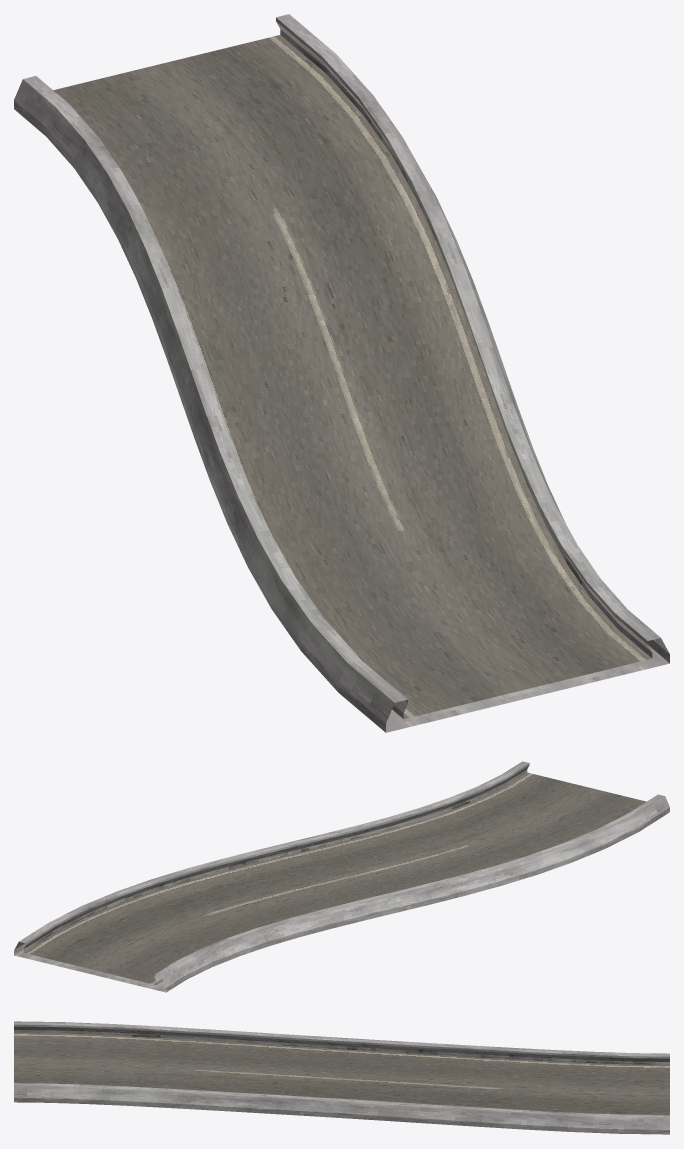
File: chicane-right1x4.glb
3 renders of one model, top to bottom at view 1: azimuth 30°, elevation 25°; view 2: azimuth 150°, elevation 25°; view 3: azimuth 270°, elevation 25°, orthographic. The views are drawn at different scales.
Parts seen in each view (by area): view 1: road-Chicane-Flat-Flat-Up1-Right1-Size4; view 2: road-Chicane-Flat-Flat-Up1-Right1-Size4; view 3: road-Chicane-Flat-Flat-Up1-Right1-Size4.
Part boxes in pixels (bbox=[...]): road-Chicane-Flat-Flat-Up1-Right1-Size4: bbox=[14, 14, 669, 732]; road-Chicane-Flat-Flat-Up1-Right1-Size4: bbox=[14, 761, 669, 992]; road-Chicane-Flat-Flat-Up1-Right1-Size4: bbox=[14, 1021, 669, 1134].
Bounding box in the file's own units: 2 × 0.3438 × 4.
Materials: 2 (2 with a texture image).
